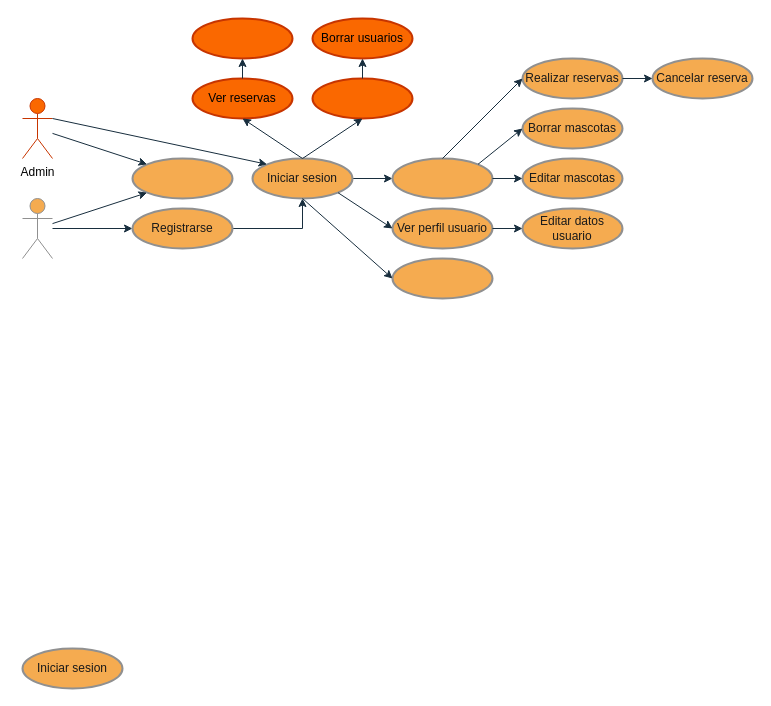
Image size: 771x706. Some labels were removed from this diagram. Here are the shapes that lost their labels. From the top down, the centre of each, then its label:
(242,38): Cancelar reservas
(362,98): Ver usuarios
(182,178): Ver información guarderia
(442,178): Agregar mascotas
(37,228): Usuario
(442,278): Solicitar borrar usuario
